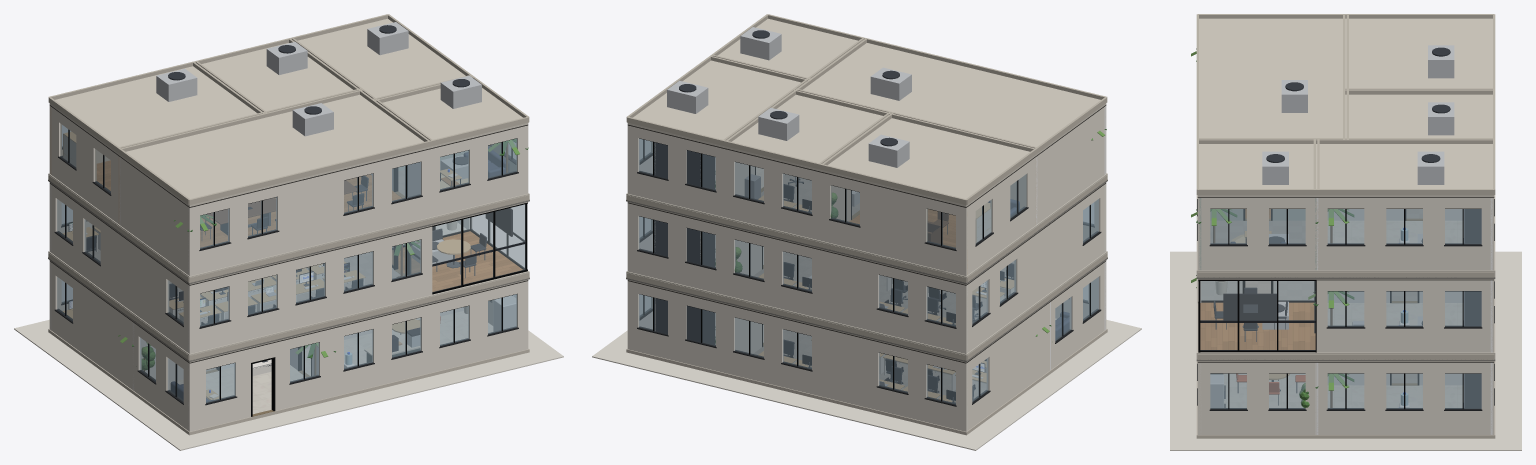
File: edificio-compacto-3-andares.glb
The picture shows the model from 3 angles, left to right: view 1: azimuth 30°, elevation 25°; view 2: azimuth 150°, elevation 25°; view 3: azimuth 270°, elevation 25°; orthographic projection. The views are drawn at different scales.
Parts seen in each view (by area): view 1: paredes_malha (×3), teto_malha (×3), janelas_malha (×3), terreno_malha, esquadrias_malha (×3), laje_malha (×3), divisorias_vidro_malha, piso_madeira_malha (×2), piso_porcelanato_malha, paredes_topo_malha (×3), piso_carpete_malha, mesa-reuniao-longa_malha (+2 smaller); view 2: paredes_malha (×3), teto_malha (×3), janelas_malha (×3), terreno_malha, laje_malha (×3), esquadrias_malha (×3), elevador_malha (×3), piso_carpete_malha (×2), paredes_topo_malha (×3); view 3: teto_malha (×3), paredes_malha (×3), janelas_malha (×3), terreno_malha, divisorias_vidro_malha, piso_porcelanato_malha (×3), esquadrias_malha (×3), laje_malha (×3), piso_madeira_malha, piso_carpete_malha (×2), elevador_malha (×3), tv-parede_malha (+2 smaller).
Boxes of the visible parts, bbox=[...] form: paredes_malha (×3): bbox=[49, 106, 528, 431]; teto_malha (×3): bbox=[48, 14, 529, 362]; janelas_malha (×3): bbox=[57, 123, 517, 402]; terreno_malha: bbox=[14, 319, 563, 450]; esquadrias_malha (×3): bbox=[54, 129, 527, 416]; laje_malha (×3): bbox=[48, 173, 529, 435]; divisorias_vidro_malha: bbox=[392, 204, 525, 291]; piso_madeira_malha (×2): bbox=[97, 160, 522, 291]; piso_porcelanato_malha: bbox=[169, 311, 492, 414]; paredes_topo_malha (×3): bbox=[49, 105, 528, 363]; piso_carpete_malha: bbox=[88, 249, 400, 325]; mesa-reuniao-longa_malha: bbox=[207, 198, 275, 234]; paredes_malha (×3): bbox=[627, 106, 1106, 431]; teto_malha (×3): bbox=[626, 14, 1107, 362]; janelas_malha (×3): bbox=[638, 138, 1098, 404]; terreno_malha: bbox=[592, 319, 1141, 450]; laje_malha (×3): bbox=[626, 173, 1107, 435]; esquadrias_malha (×3): bbox=[637, 138, 1101, 406]; elevador_malha (×3): bbox=[654, 142, 714, 344]; piso_carpete_malha (×2): bbox=[753, 252, 1013, 398]; paredes_topo_malha (×3): bbox=[627, 105, 1106, 363]; teto_malha (×3): bbox=[1196, 14, 1495, 361]; paredes_malha (×3): bbox=[1197, 198, 1494, 434]; janelas_malha (×3): bbox=[1210, 209, 1481, 408]; terreno_malha: bbox=[1170, 251, 1521, 450]; divisorias_vidro_malha: bbox=[1200, 281, 1315, 350]; piso_porcelanato_malha (×3): bbox=[1224, 221, 1462, 407]; esquadrias_malha (×3): bbox=[1197, 199, 1494, 410]; laje_malha (×3): bbox=[1196, 195, 1495, 438]; piso_madeira_malha: bbox=[1200, 302, 1315, 349]; piso_carpete_malha (×2): bbox=[1201, 209, 1422, 300]; elevador_malha (×3): bbox=[1464, 209, 1481, 407]; tv-parede_malha: bbox=[1223, 293, 1276, 320].
Bounding box in the file's own units: 16 × 10.01 × 12.
Materials: 23 (5 with a texture image).
